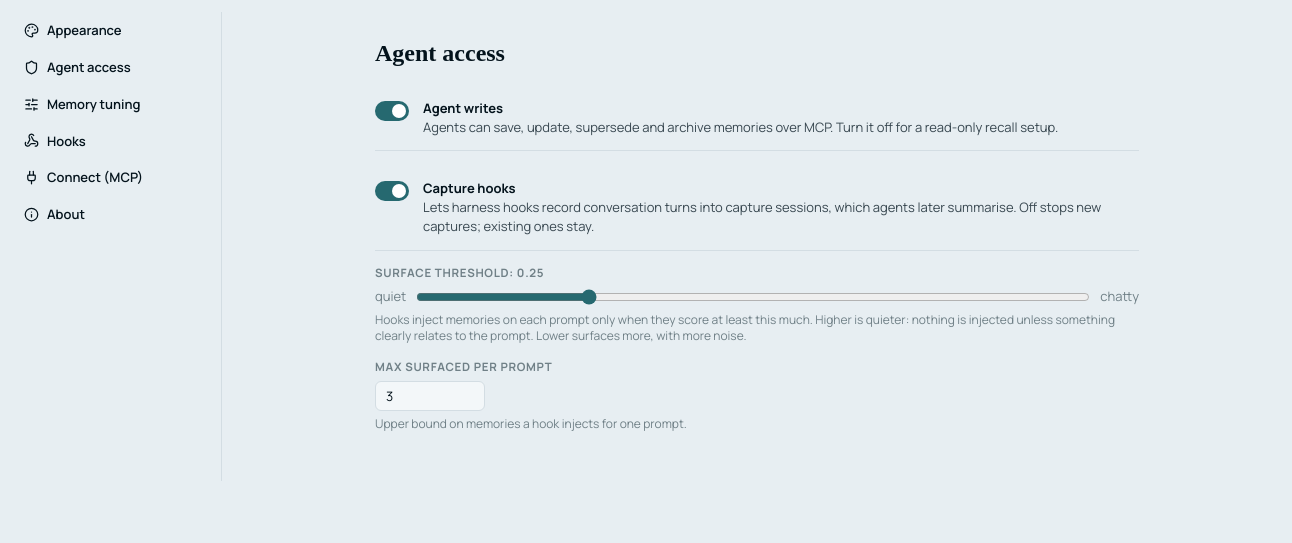
Test: SettingsView › saves the WHOLE settings object and shows a validation error instead of saving bad input
This screenshot has width=1292, height=543.
Click the switch named "Agent writes" at [392, 111], box [375,101,409,121]
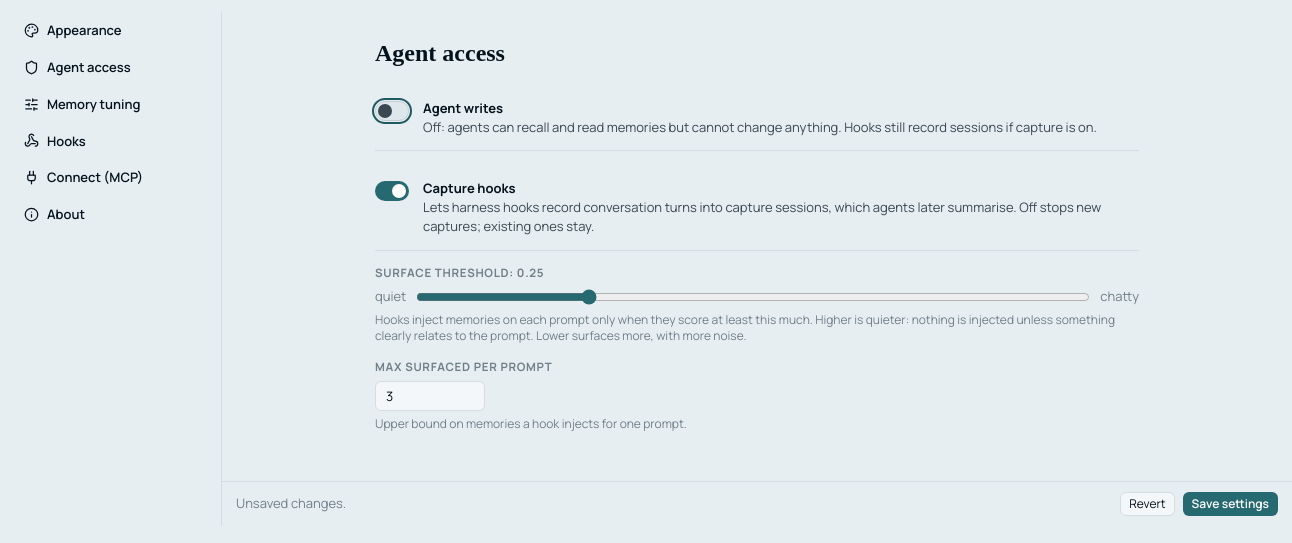
Expected: the text "Unsaved changes." is shown, [236,494,346,512]
Click the button "Save settings" at [1230, 504], box [1183,492,1278,516]
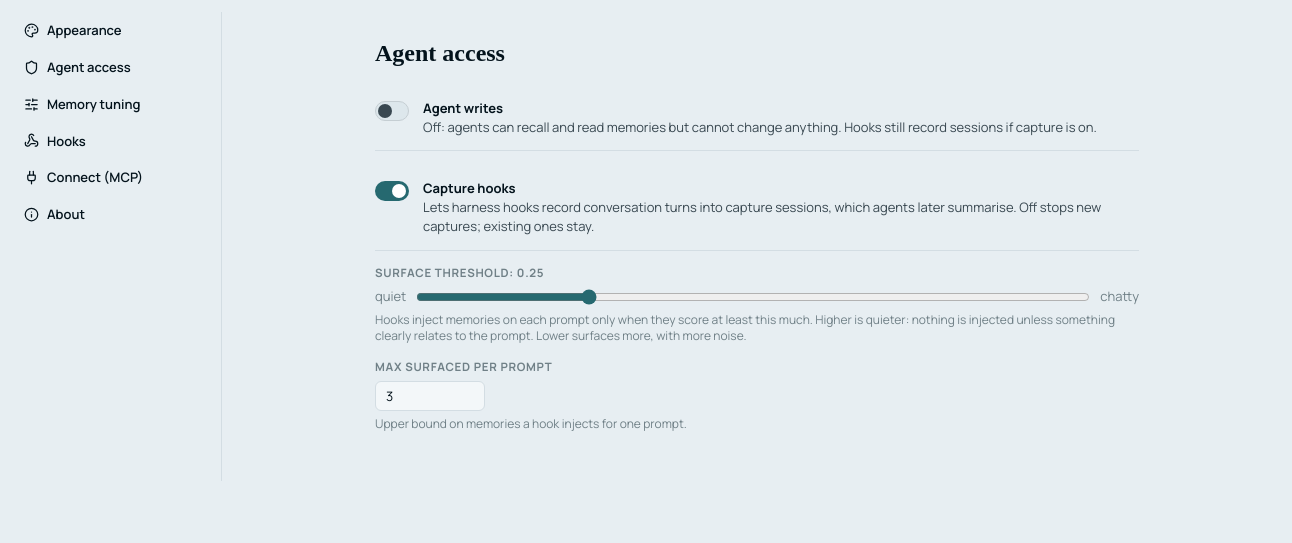
Note: An invalid threshold blocks saving.
Click the switch named "Capture hooks" at [392, 192], box [375,182,409,202]
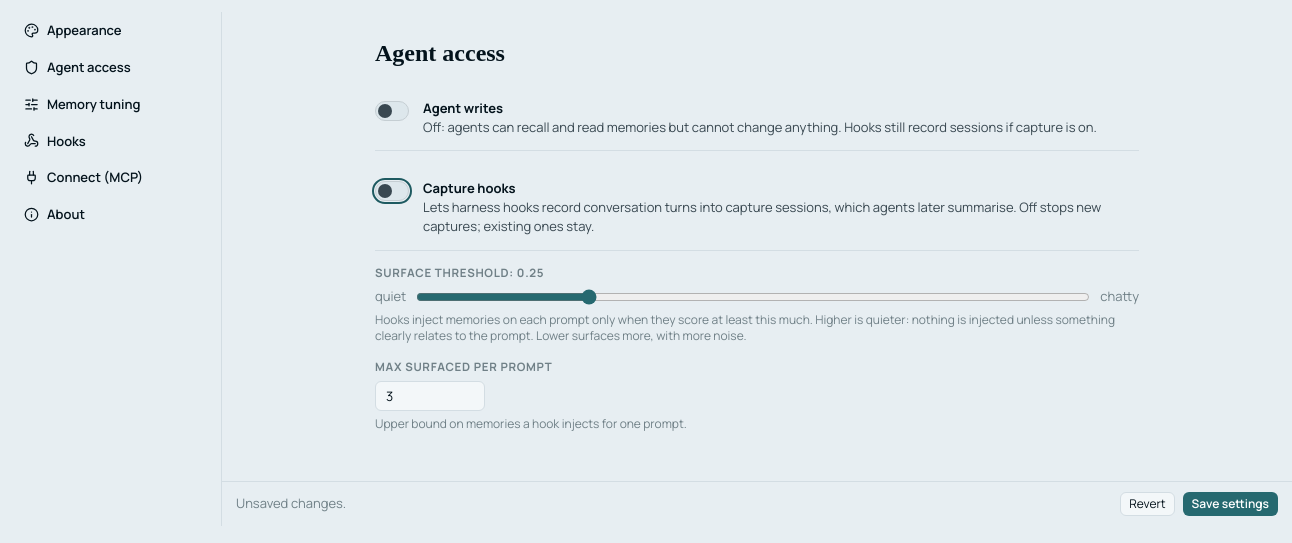
Replace the text in the number field named "Max surfaced per prompt" with "0" at [430, 396], box [375,381,485,411]
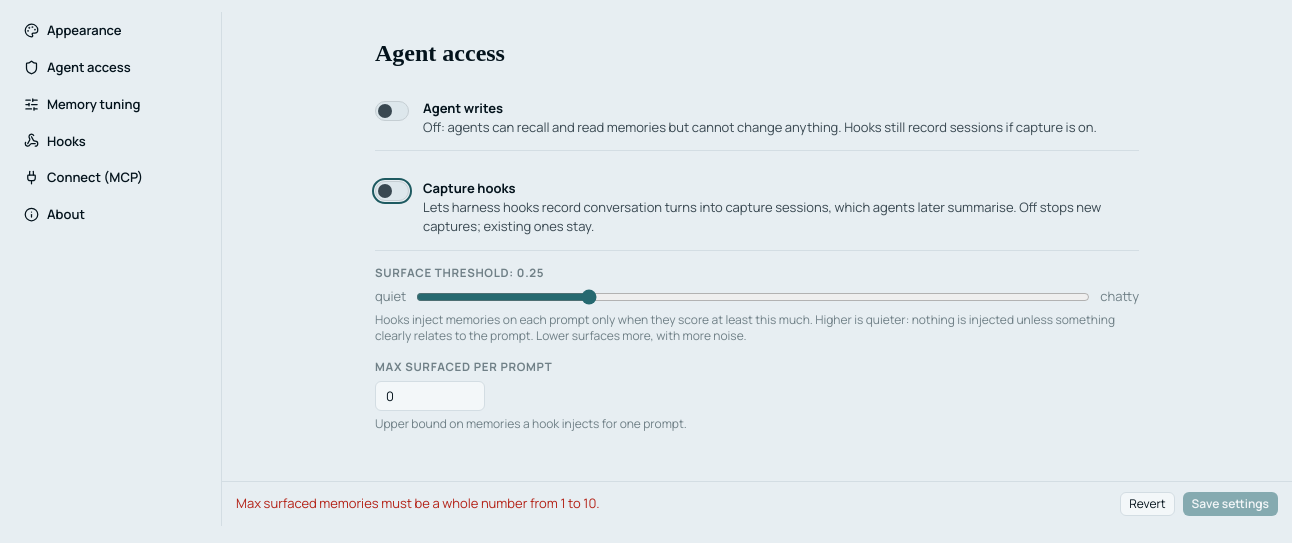
Expected: the text "Max surfaced memories must be a whole number from 1 to 10." is shown, [236,494,600,512]
Expected: the button "Save settings" is disabled, [1183,492,1278,516]
